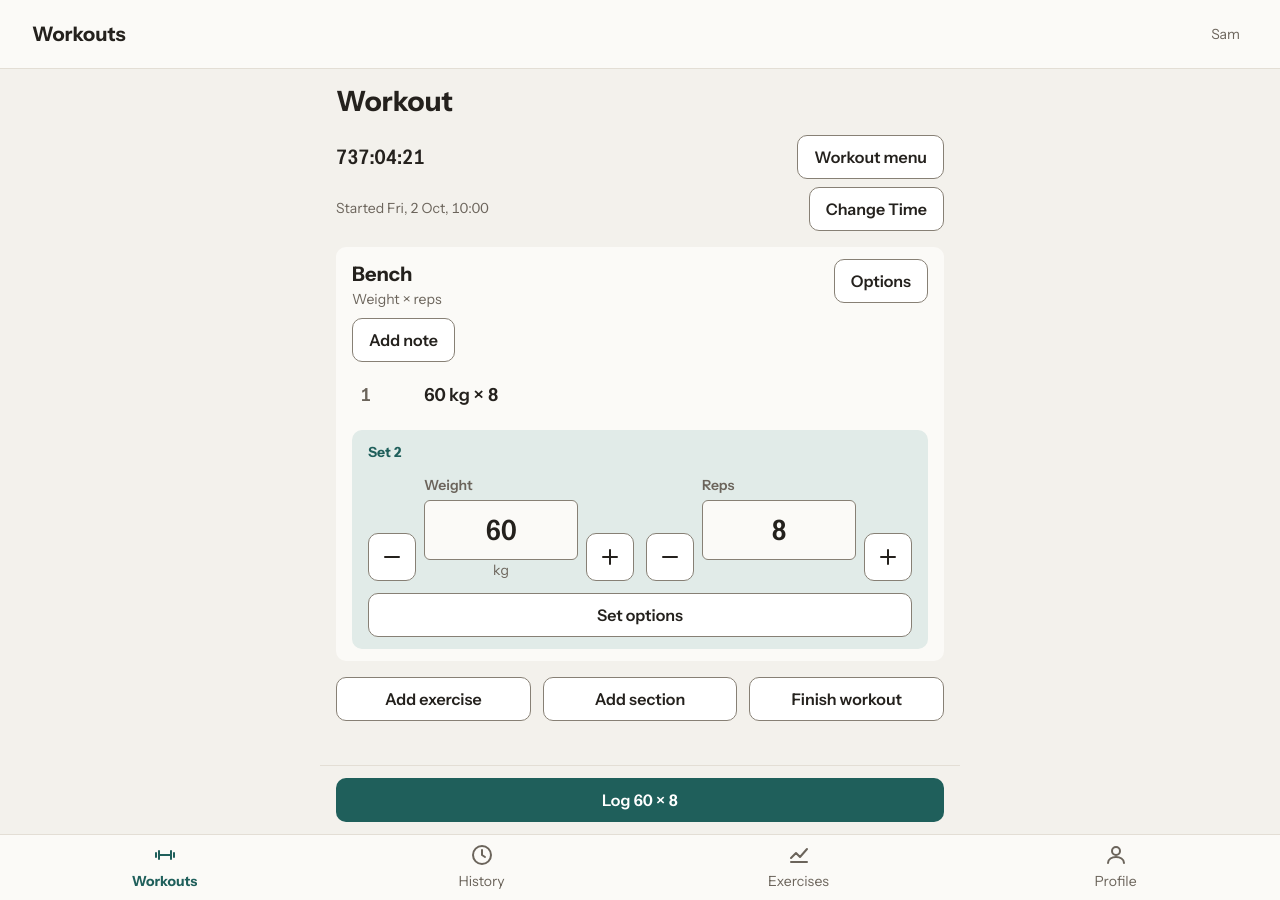
Test case: 10.2 AC27 — no plan, no change › added by hand keeps today's entry row: 'Set {n + 1}' and the copy-forward draft
Check: the heading "Workout" is shown, box [336, 84, 453, 118]
Click the button "Set options" at {"x": 640, "y": 615}, box [368, 593, 912, 637]
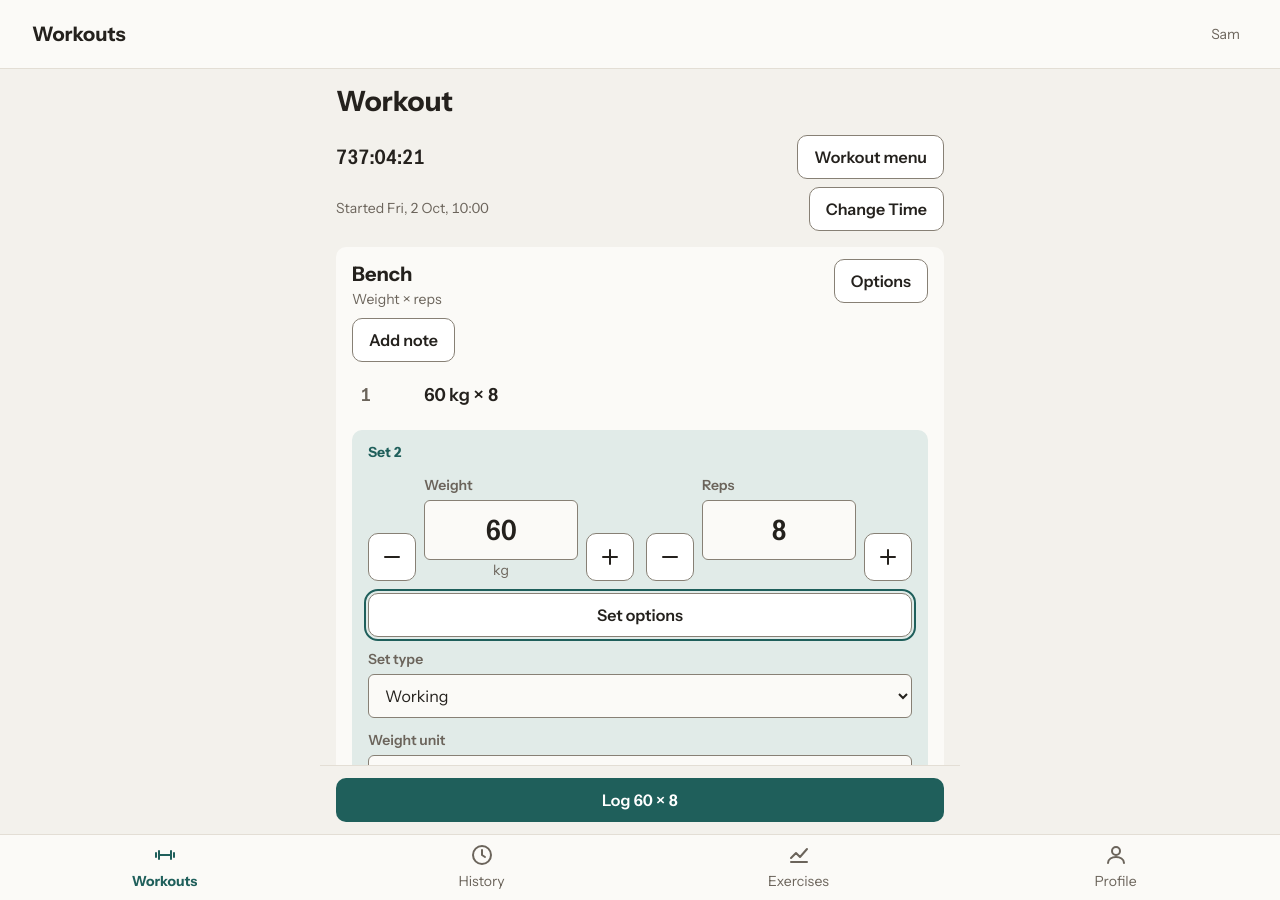
Check: the text "Set 2" is shown, box [368, 442, 402, 463]
Check: the dropdown labelled "Set type" shows "Working", box [368, 674, 912, 718]
